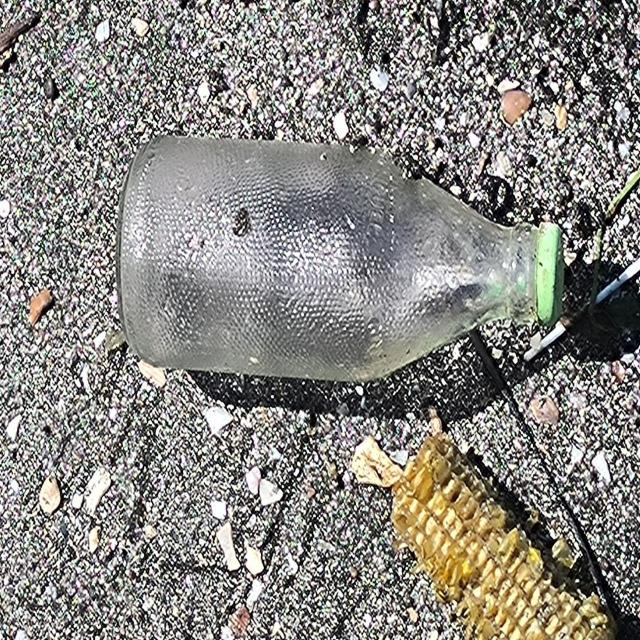glass_waste: (117, 131, 565, 384)
